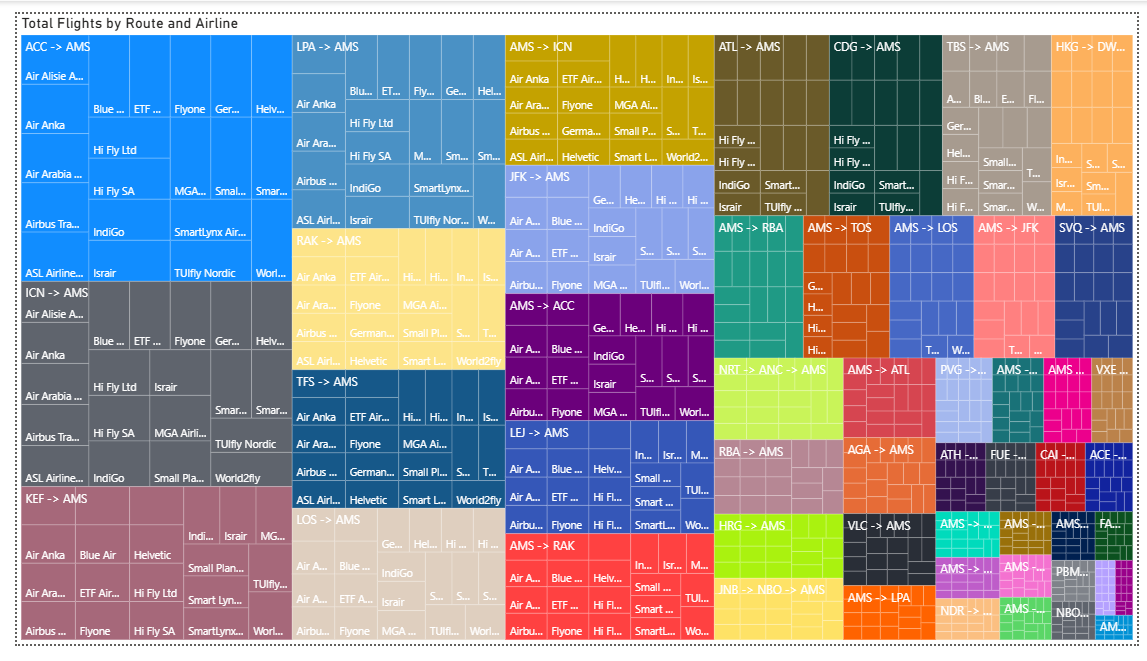

Layout of this report page (visuals, bound fields, positions):
{"tool":"powerbi","page":{"name":"Page 3","canvas":[1280,720],"ordinal":2},"visuals":[{"type":"treemap","title":"Total Flights by Route and Airline","fields":{"Group":["flights_curated.destination_route"],"Values":["flights_curated.Total Flights"],"Details":["Airline_Lookup.publicName"]},"box":[0,0,1280.3,720.4],"z":0}]}

Visuals, with their boxes in screenshot pixels (x1, y1, x2, y2), scaled from the page's 1280x720 canvas onto the 1147x661 screenshot:
"Total Flights by Route and Airline" treemap: box=[0, 0, 1146, 660]
